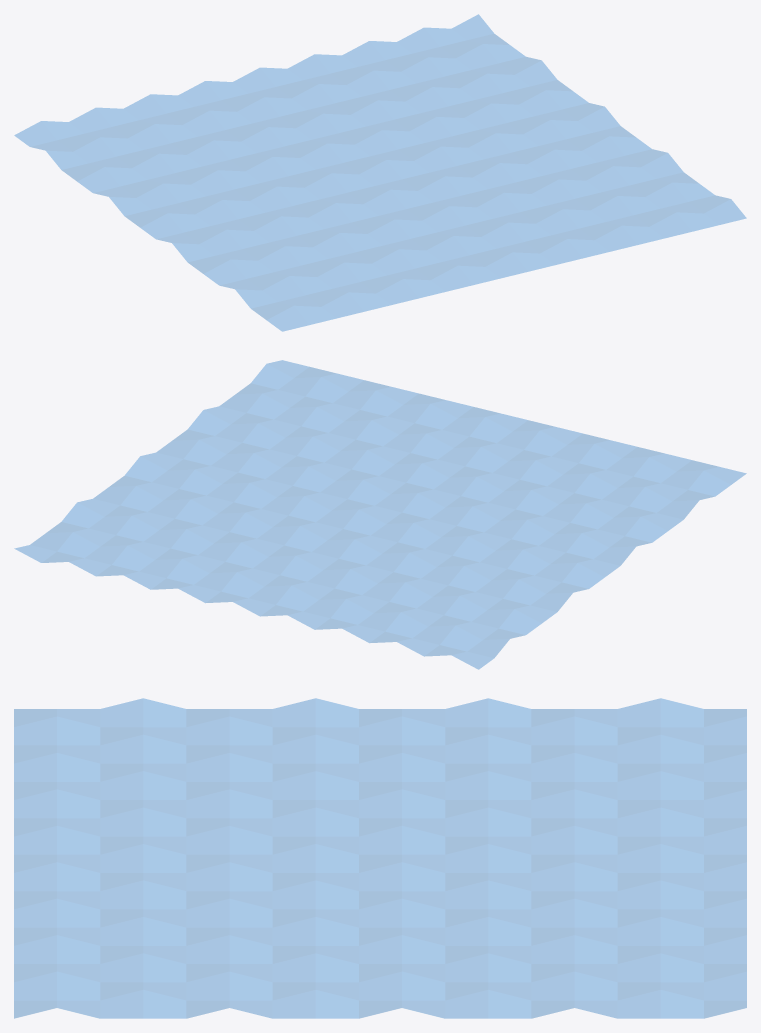
Rendered from water.fbx.
3 renders of one model, top to bottom at view 1: azimuth 30°, elevation 25°; view 2: azimuth 150°, elevation 25°; view 3: azimuth 270°, elevation 25°, orthographic. The views are drawn at different scales.
Visible parts, largest first — view 1: water; view 2: water; view 3: water.
Part boxes in pixels (box(x1,y1,x2,y2)): water: box(14, 14, 746, 331); water: box(14, 360, 746, 669); water: box(14, 698, 746, 1018).
Bounding box in the file's own units: 1800 × 29.22 × 1800.
